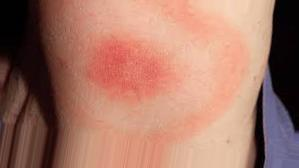Tick: (82, 26, 187, 115)
